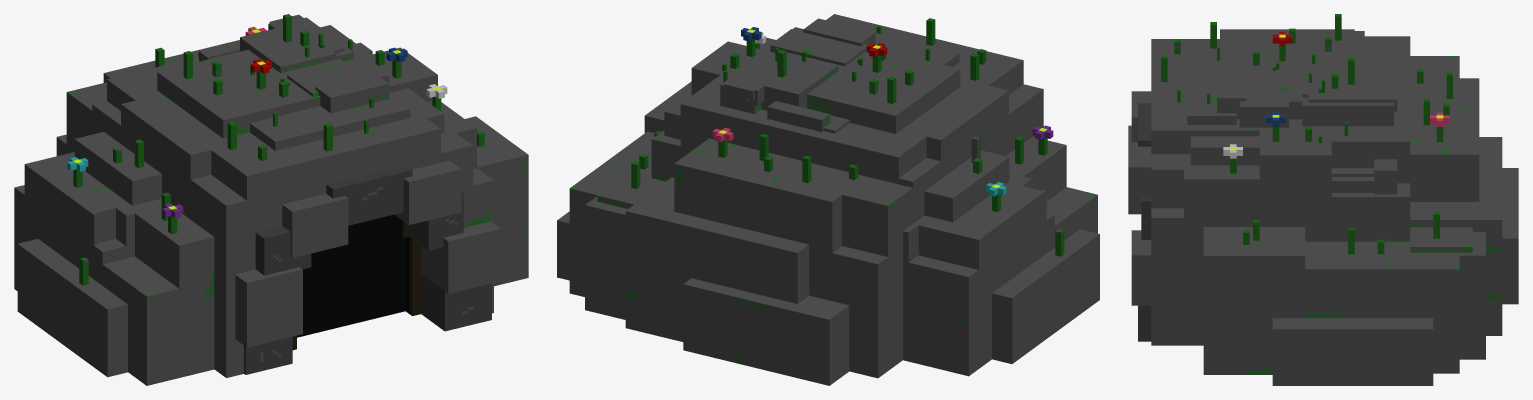
Rendered from house-1.obj.
3 renders of one model, left to right at view 1: azimuth 30°, elevation 25°; view 2: azimuth 150°, elevation 25°; view 3: azimuth 270°, elevation 25°, orthographic. The views are drawn at different scales.
Bounding box in the file's own units: 15 × 8 × 11.9.
